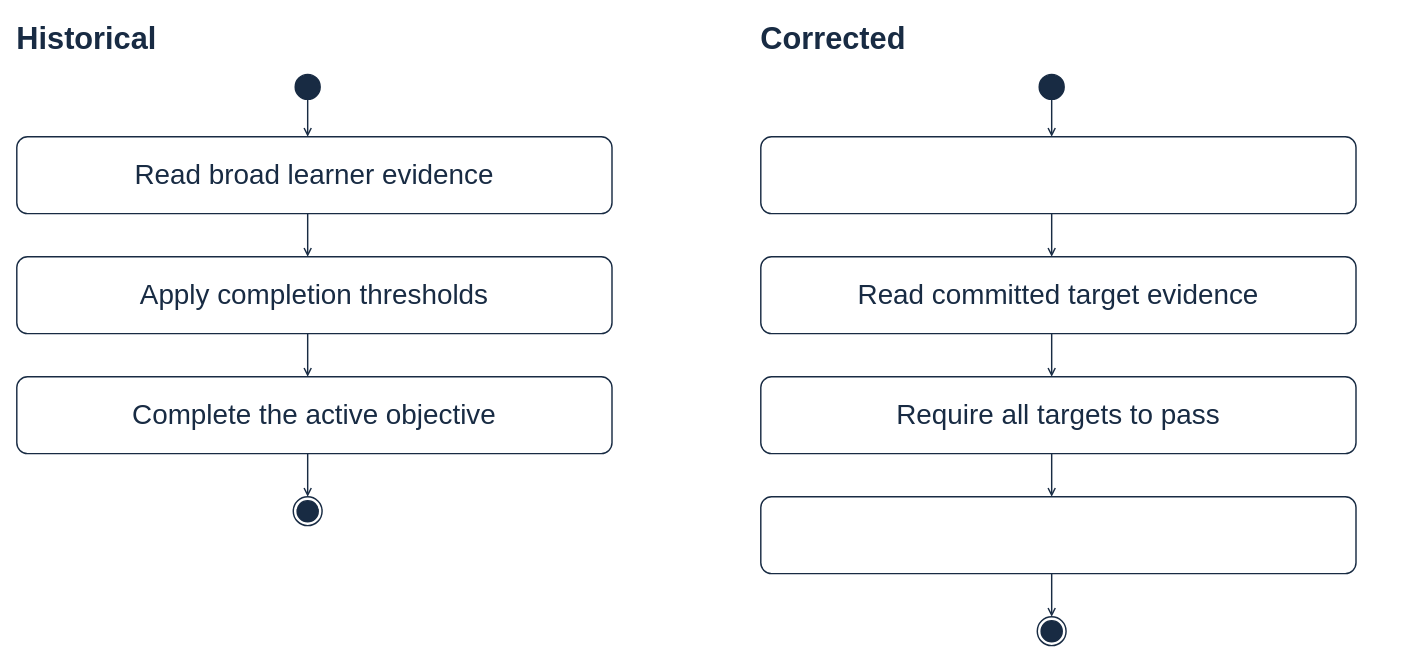
Image size: 1402x662. Some labels were removed from this diagram. Here are the shapes that lost their labels. From the top down, the centre of each, then its label:
At (x=1058, y=175): "Resolve exact objective concepts".
At (x=1058, y=535): "Complete that objective only".
